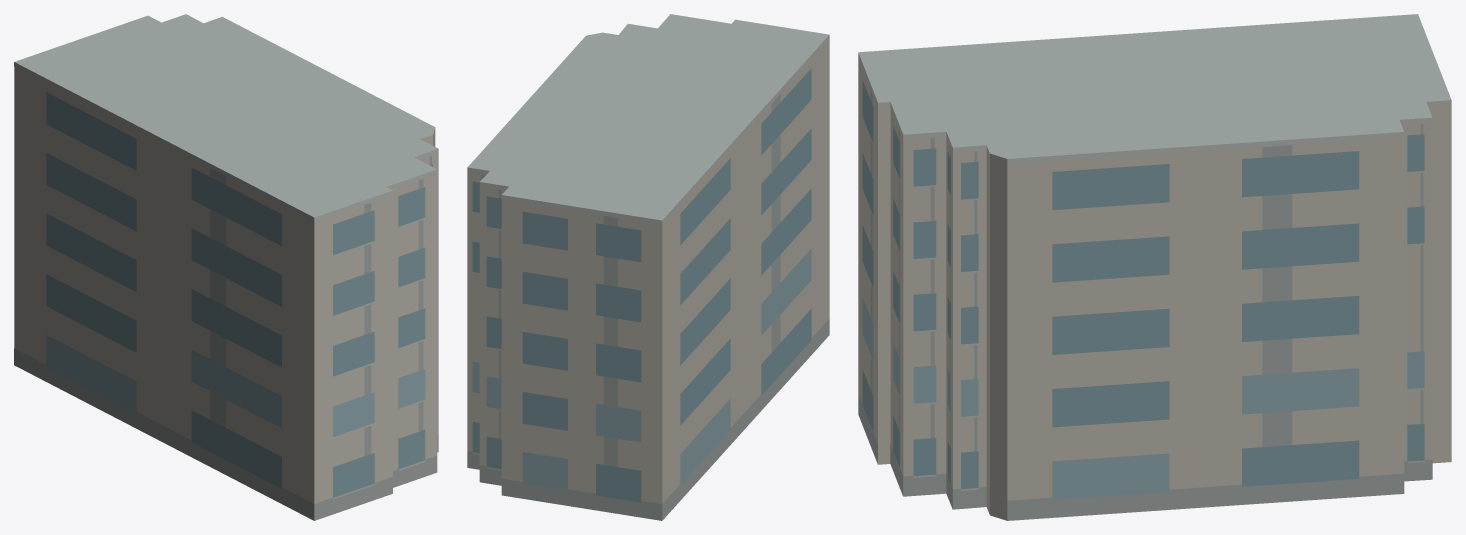
File: survey-upis-32763278.glb
3 views of the same model, side by side, from view 1: azimuth 30°, elevation 25°; view 2: azimuth 150°, elevation 25°; view 3: azimuth 270°, elevation 25° (orthographic). The views are drawn at different scales.
Visible parts, largest first — view 1: survey-upis-32763278.tmp; view 2: survey-upis-32763278.tmp; view 3: survey-upis-32763278.tmp.
Part boxes in pixels (<box>): survey-upis-32763278.tmp: <box>14,14,438,520</box>; survey-upis-32763278.tmp: <box>467,14,829,520</box>; survey-upis-32763278.tmp: <box>858,14,1451,520</box>.
Bounding box in the file's own units: 13.5 × 15.7 × 23.34.
